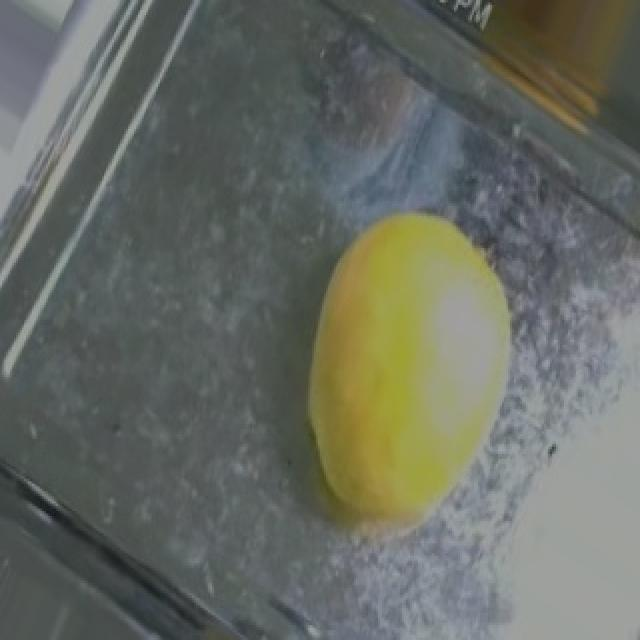fruit: (250, 171, 572, 576), (426, 0, 640, 156)
